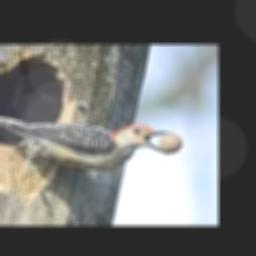Woodpecker: (0, 115, 175, 171)
